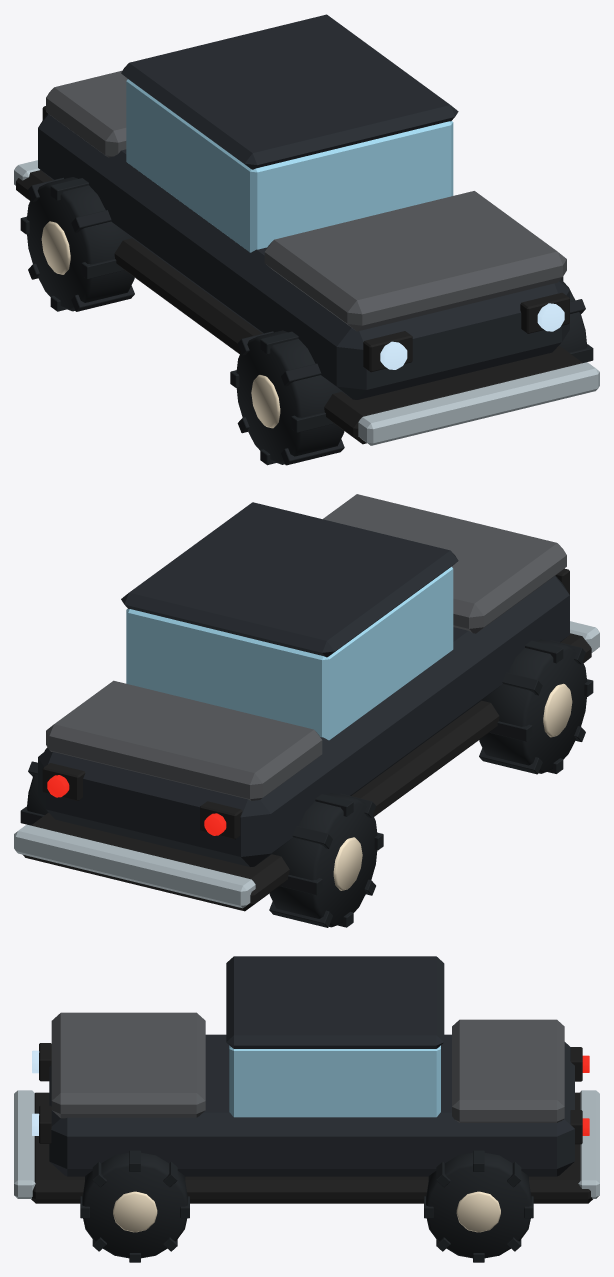
The model's file is FTF_Vehicle_CompactSedan_Black_4_4m.glb.
The picture shows the model from 3 angles, top to bottom: view 1: azimuth 30°, elevation 25°; view 2: azimuth 150°, elevation 25°; view 3: azimuth 270°, elevation 25°; orthographic projection. The views are drawn at different scales.
Parts seen in each view (by area): view 1: FTF_Vehicle_CompactSedan_Black_4_4m_Static, Wheel_FL_Mesh, Wheel_RL_Mesh, Wheel_FR_Mesh; view 2: FTF_Vehicle_CompactSedan_Black_4_4m_Static, Wheel_RL_Mesh, Wheel_FL_Mesh, Wheel_RR_Mesh; view 3: FTF_Vehicle_CompactSedan_Black_4_4m_Static, Wheel_FR_Mesh, Wheel_RR_Mesh.
Boxes of the visible parts, x1,y1,x2,y2 form: FTF_Vehicle_CompactSedan_Black_4_4m_Static: [14, 14, 599, 445]; Wheel_FL_Mesh: [230, 330, 344, 465]; Wheel_RL_Mesh: [20, 177, 134, 311]; Wheel_FR_Mesh: [559, 276, 593, 362]; FTF_Vehicle_CompactSedan_Black_4_4m_Static: [14, 494, 599, 911]; Wheel_RL_Mesh: [269, 793, 383, 927]; Wheel_FL_Mesh: [479, 639, 593, 774]; Wheel_RR_Mesh: [20, 747, 48, 825]; FTF_Vehicle_CompactSedan_Black_4_4m_Static: [14, 956, 599, 1203]; Wheel_FR_Mesh: [80, 1150, 189, 1262]; Wheel_RR_Mesh: [424, 1150, 533, 1262].
Bounding box in the file's own units: 2.19 × 1.79 × 4.57.
